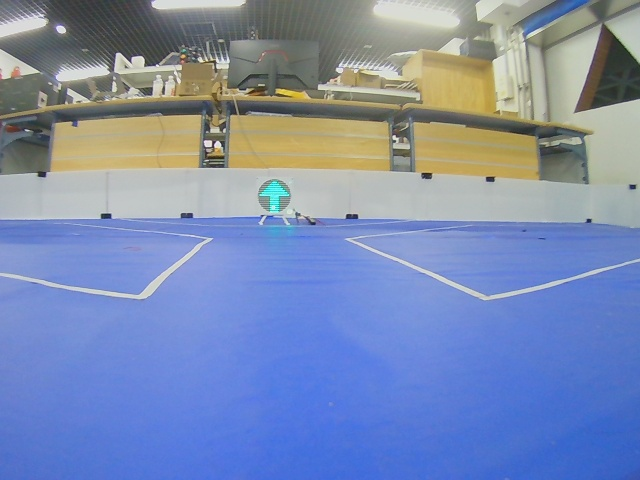straight_green: (258, 179, 291, 215)
